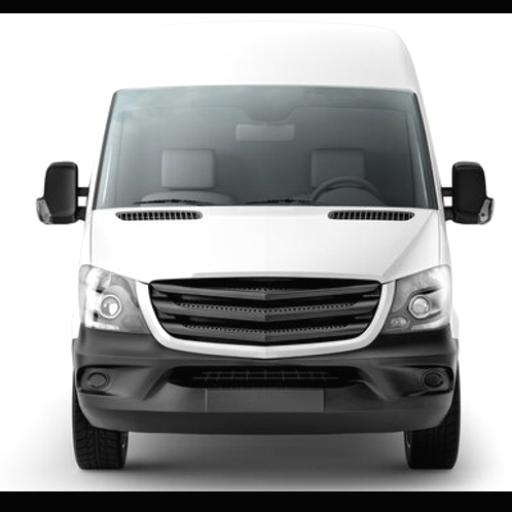van: (37, 22, 491, 468)
